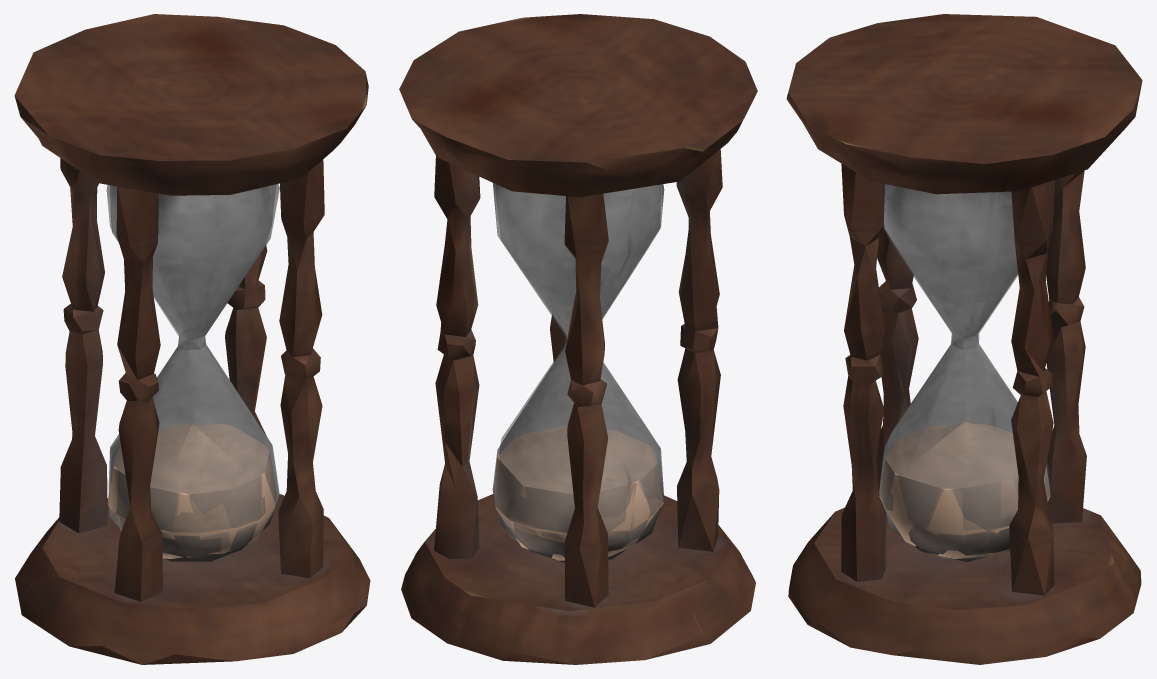
Rendered from hourglass-brass.lod1.glb.
The picture shows the model from 3 angles, left to right: view 1: azimuth 30°, elevation 25°; view 2: azimuth 150°, elevation 25°; view 3: azimuth 270°, elevation 25°; orthographic projection.
Visible parts, largest first — view 1: hourglass-brass; view 2: hourglass-brass; view 3: hourglass-brass.
Part boxes in pixels (<box>): hourglass-brass: <box>14,14,370,664</box>; hourglass-brass: <box>399,14,757,664</box>; hourglass-brass: <box>786,14,1142,664</box>.
Bounding box in the file's own units: 0.1219 × 0.1909 × 0.1221.
1 material, 1 textured.
